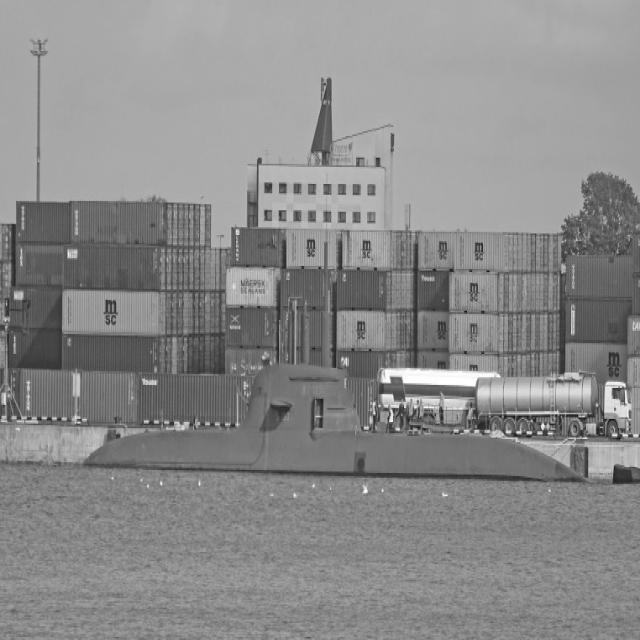submarine: (81, 292, 583, 473)
